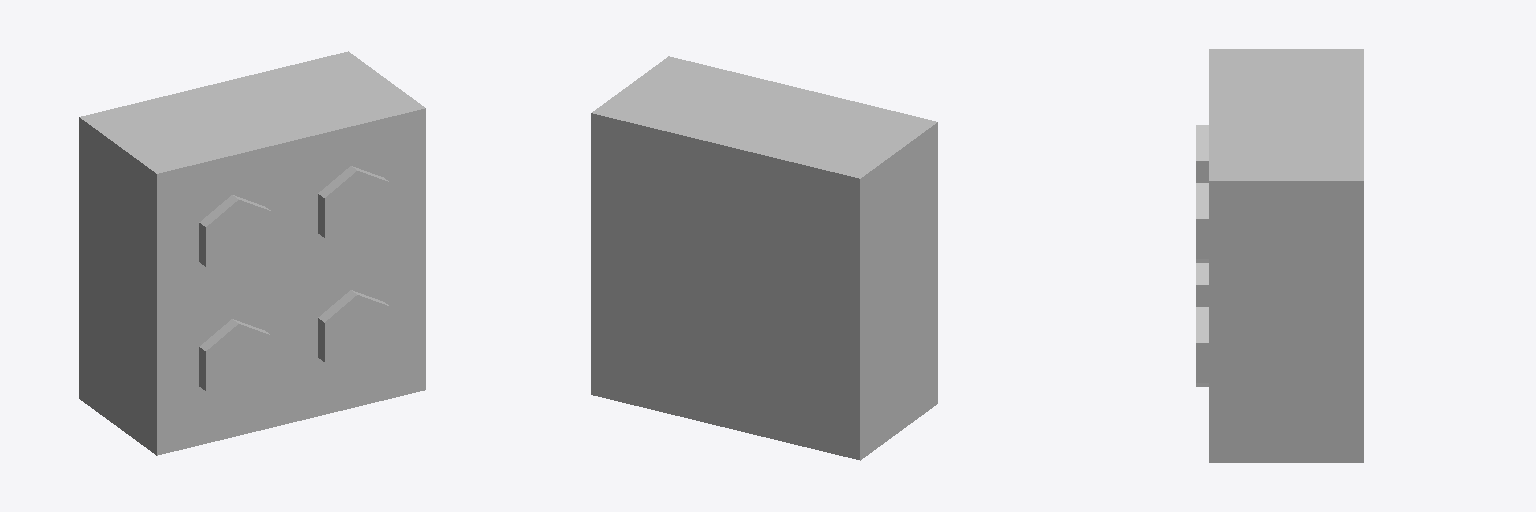
Rendered from mego-brick.obj.
The picture shows the model from 3 angles: view 1: azimuth 30°, elevation 25°; view 2: azimuth 150°, elevation 25°; view 3: azimuth 270°, elevation 25°; orthographic projection.
Visible parts, largest first — view 1: Cube; view 2: Cube; view 3: Cube.
Part boxes in pixels (left/top/right/bottom): Cube: left=79, top=51, right=425, bottom=455; Cube: left=591, top=56, right=937, bottom=460; Cube: left=1196, top=49, right=1363, bottom=462.
Bounding box in the file's own units: 2 × 2 × 1.09.